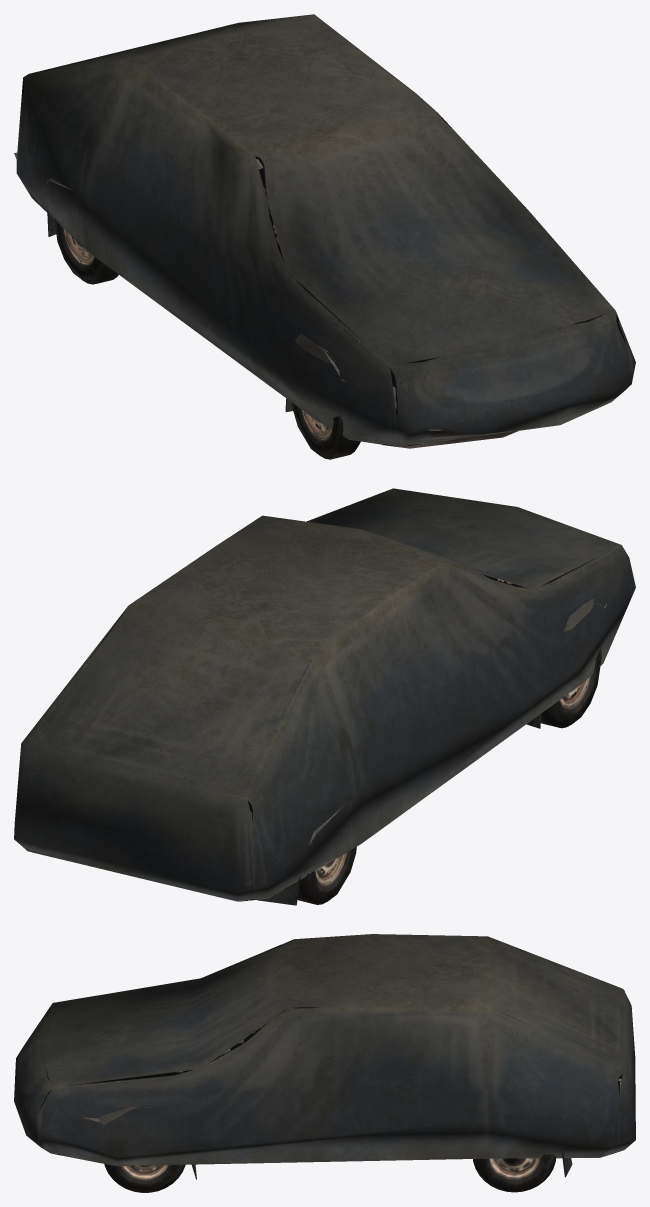
The model's file is covered_car.glb.
3 renders of one model, top to bottom at view 1: azimuth 30°, elevation 25°; view 2: azimuth 150°, elevation 25°; view 3: azimuth 270°, elevation 25°, orthographic. The views are drawn at different scales.
Parts seen in each view (by area): view 1: covered_car, covered_car_wheel_02, covered_car_wheel_03; view 2: covered_car, covered_car_wheel_03, covered_car_wheel_02; view 3: covered_car, covered_car_wheel_04, covered_car_wheel_01.
Part boxes in pixels (x1,y1,x2,y2): covered_car: (14,14,635,448); covered_car_wheel_02: (292,403,360,459); covered_car_wheel_03: (54,218,118,284); covered_car: (14,488,635,905); covered_car_wheel_03: (297,847,356,904); covered_car_wheel_02: (541,647,601,728); covered_car: (14,934,635,1179); covered_car_wheel_04: (473,1154,556,1192); covered_car_wheel_01: (104,1164,185,1192).
Bounding box in the file's own units: 1.77 × 1.38 × 4.34.
2 materials, 2 textured.
